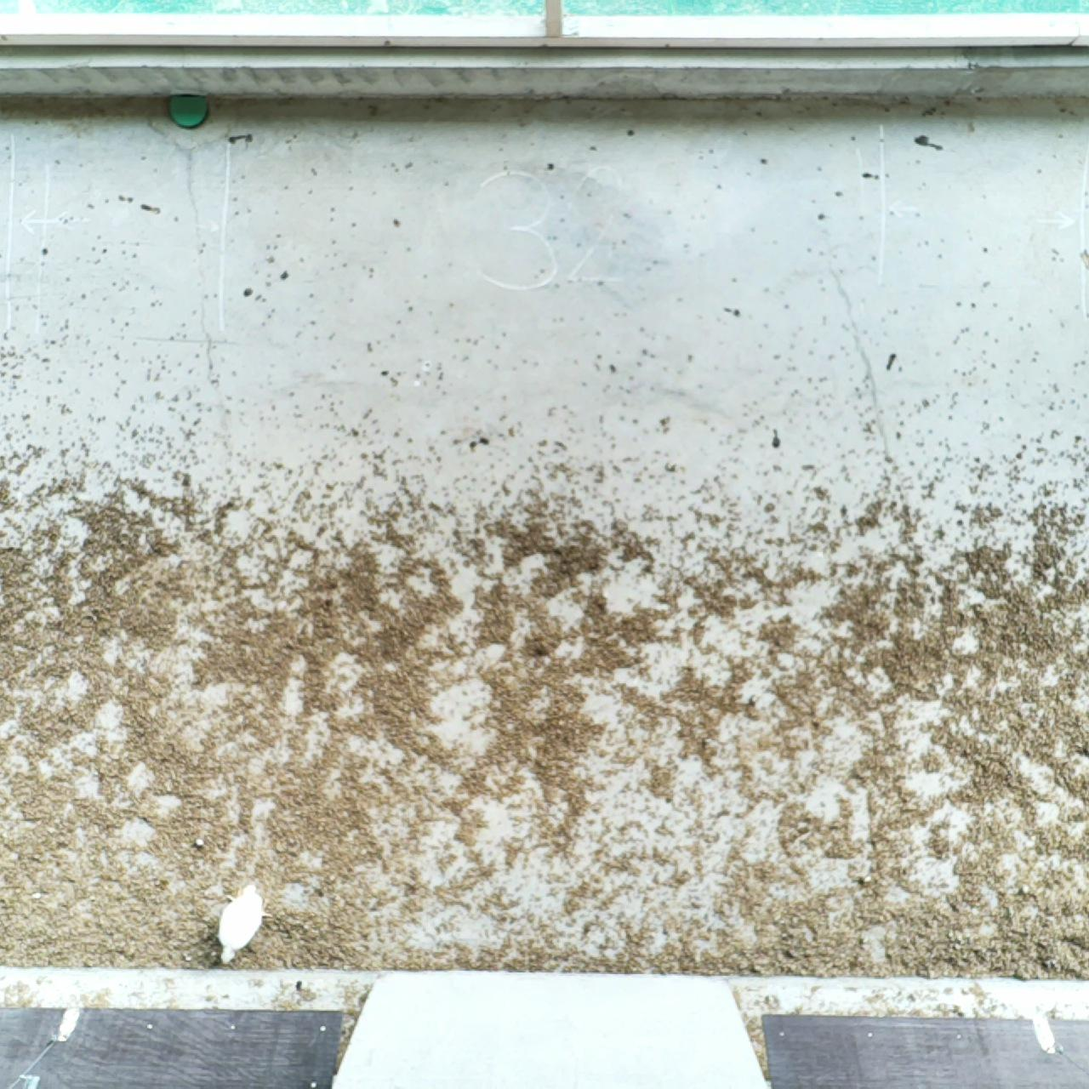chicken: (211, 876, 270, 973)
